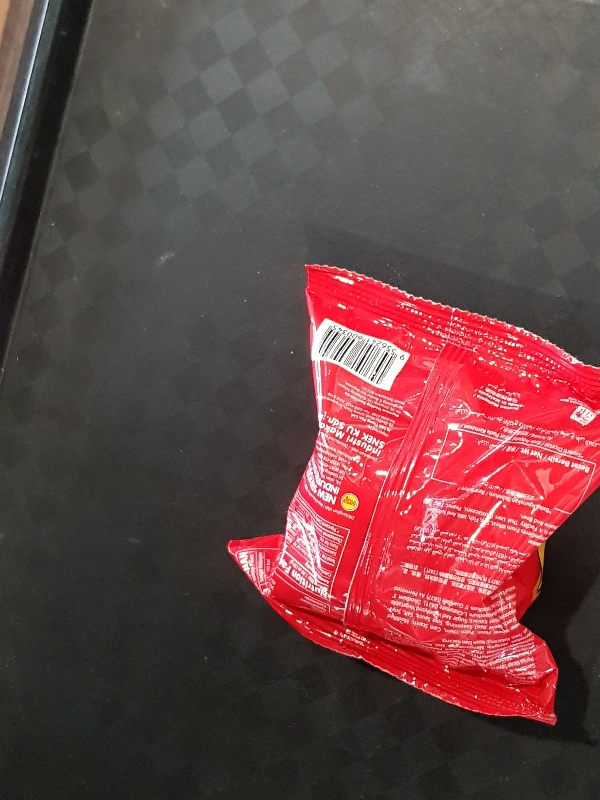ShoyueMi Spicy Flavoured Snacks: (222, 264, 600, 728)
